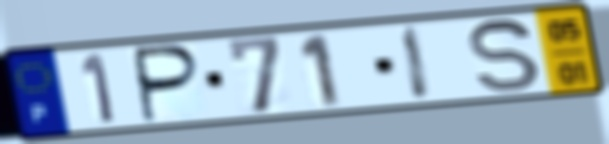1: (296, 31, 345, 110), (77, 51, 119, 127)
7: (223, 33, 286, 116)
I: (399, 23, 435, 103)
P: (133, 43, 205, 126)
S: (466, 16, 544, 95)
